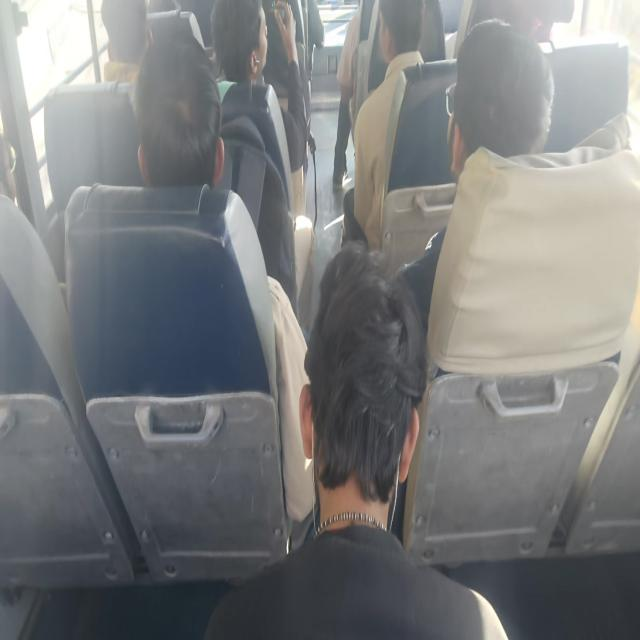person: (204, 239, 510, 638), (132, 33, 315, 532), (394, 18, 554, 334), (210, 0, 309, 219), (341, 0, 426, 251), (133, 34, 225, 187), (260, 1, 309, 218), (332, 0, 385, 191), (100, 0, 152, 84)
